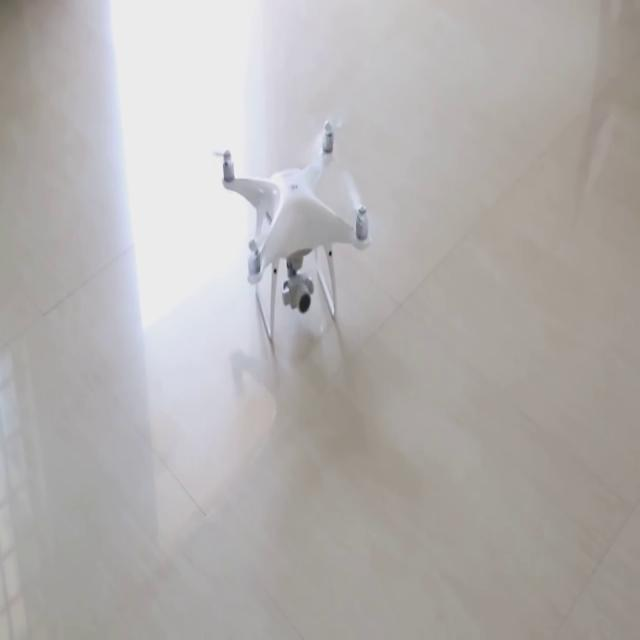drones: (208, 93, 390, 370)
